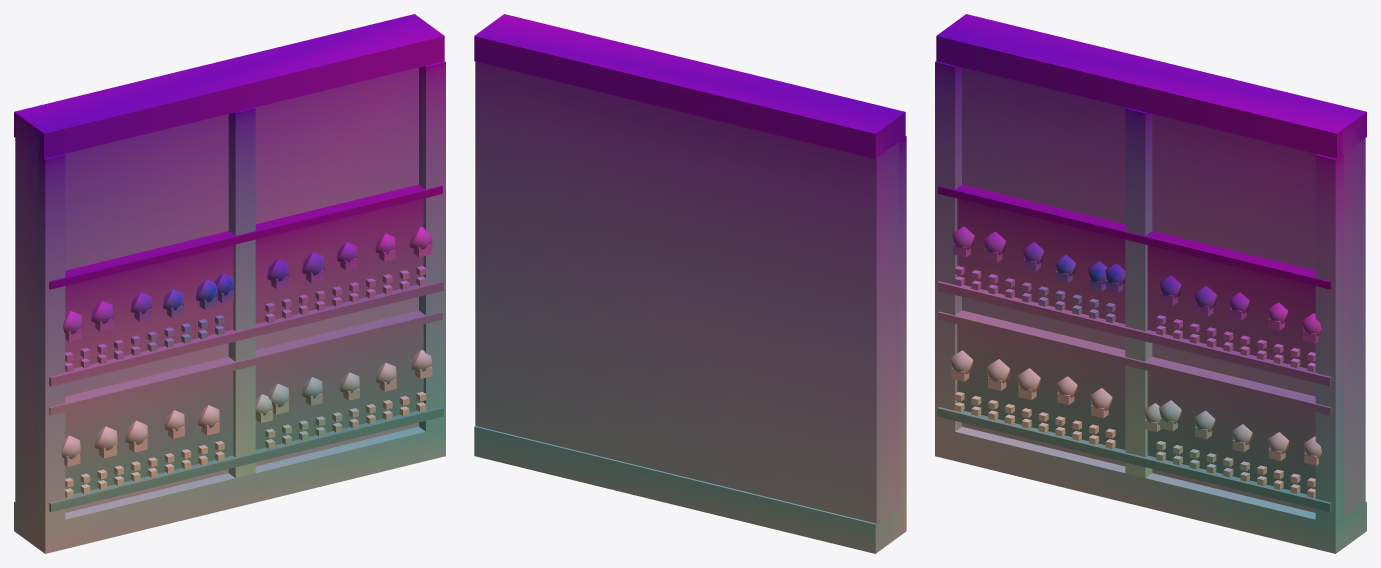
The model's file is ossuary_wall_4m.glb.
3 views of the same model, side by side, from view 1: azimuth 30°, elevation 25°; view 2: azimuth 150°, elevation 25°; view 3: azimuth 330°, elevation 25° (orthographic).
Parts seen in each view (by area): view 1: oss_frame, oss_shelf, oss_skulls; view 2: oss_frame; view 3: oss_frame, oss_shelf, oss_skulls.
Part boxes in pixels (left/top/right/bottom): oss_frame: left=14, top=14, right=445, bottom=553; oss_shelf: left=49, top=184, right=443, bottom=512; oss_skulls: left=61, top=226, right=432, bottom=497; oss_frame: left=474, top=14, right=906, bottom=553; oss_frame: left=935, top=14, right=1366, bottom=553; oss_shelf: left=937, top=184, right=1331, bottom=512; oss_skulls: left=950, top=226, right=1321, bottom=497.
Size of the model in its own units: 4 by 4 by 0.6055.
